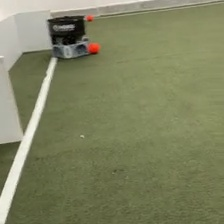ball: (87, 40, 100, 54), (86, 12, 94, 22)
robot: (45, 13, 89, 60)
